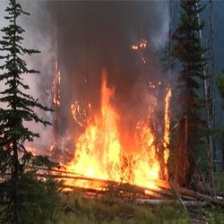fire: (68, 114, 165, 201)
smoke: (68, 1, 137, 93)
